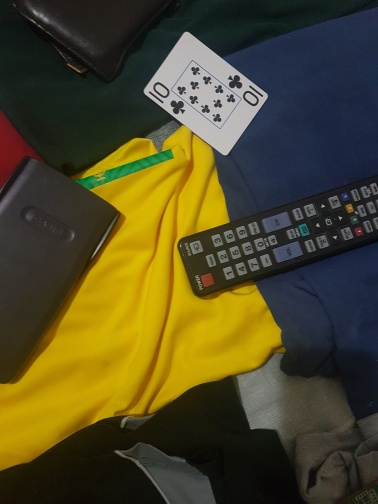ten: (142, 32, 271, 158)
